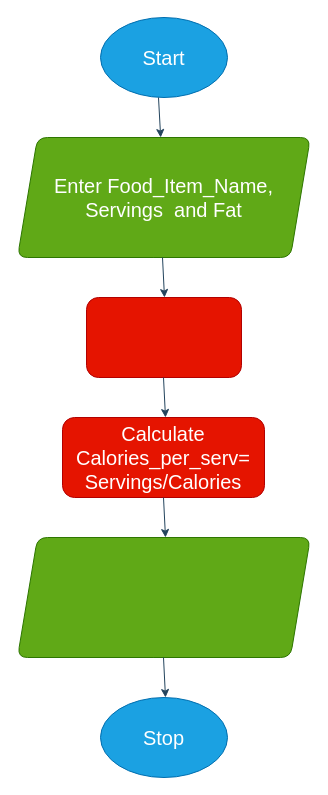
The diagram is 328 pixels wide and 795 high, and some of its shapes have lost their labels. The box of each missing label's shape, as (x1, y1, x2, y2) in pixels:
Calculate Calories=Fat*9: (86, 296, 242, 378)
Display Calories_per_serv: (16, 536, 310, 658)
